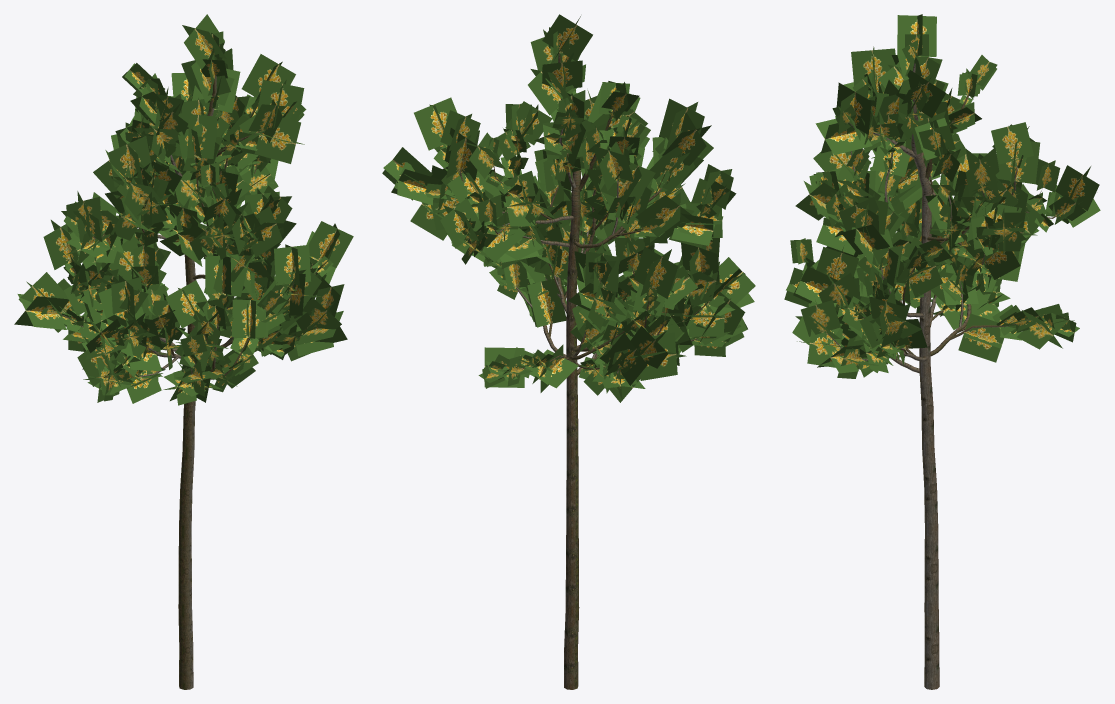
Rendered from aspen.glb.
3 views of the same model, side by side, from view 1: azimuth 30°, elevation 25°; view 2: azimuth 150°, elevation 25°; view 3: azimuth 270°, elevation 25° (orthographic). The views are drawn at different scales.
Visible parts, largest first — view 1: tree; view 2: tree; view 3: tree.
Boxes of the visible parts, bbox=[...] form: tree: bbox=[14, 14, 353, 689]; tree: bbox=[382, 14, 755, 689]; tree: bbox=[784, 14, 1100, 689].
Size of the model in its own units: 4.96 by 10.63 by 4.48.
2 materials, 2 textured.
